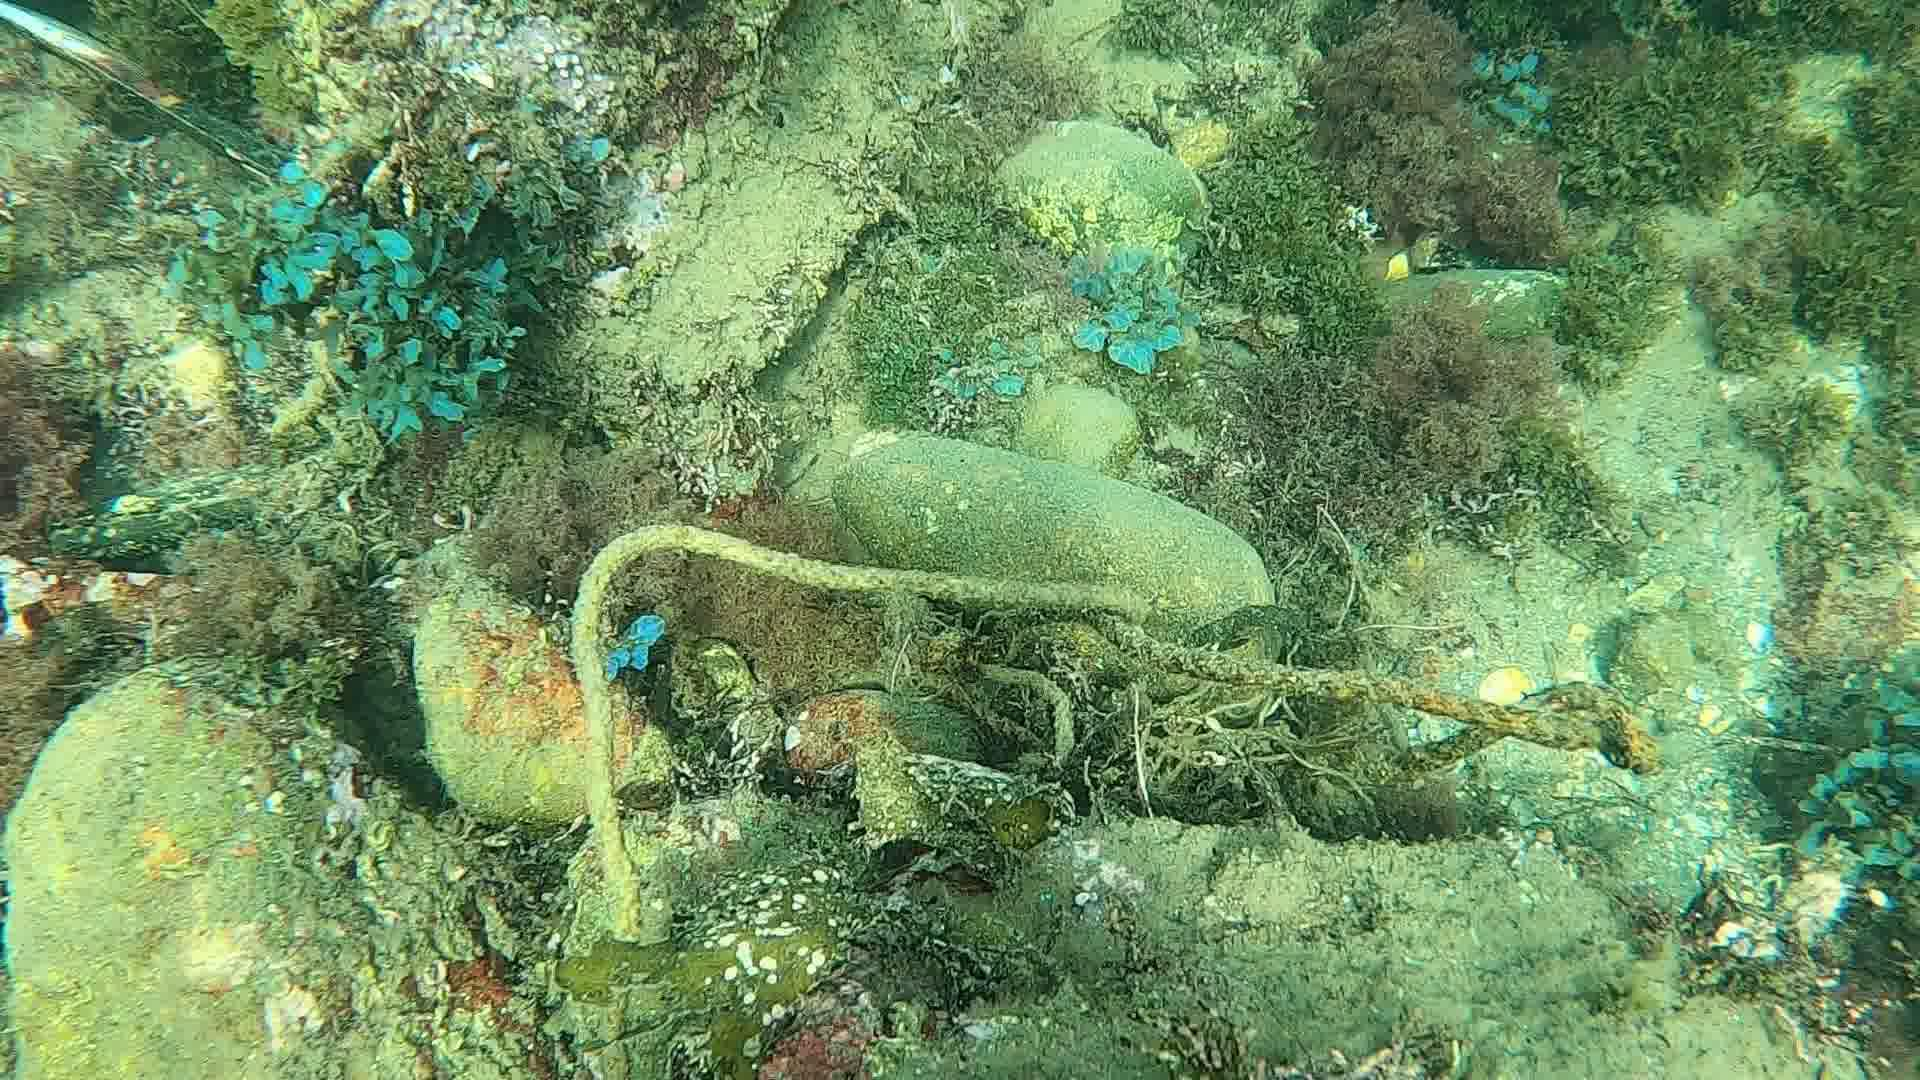bundle of ropes: (570, 522, 1662, 939)
